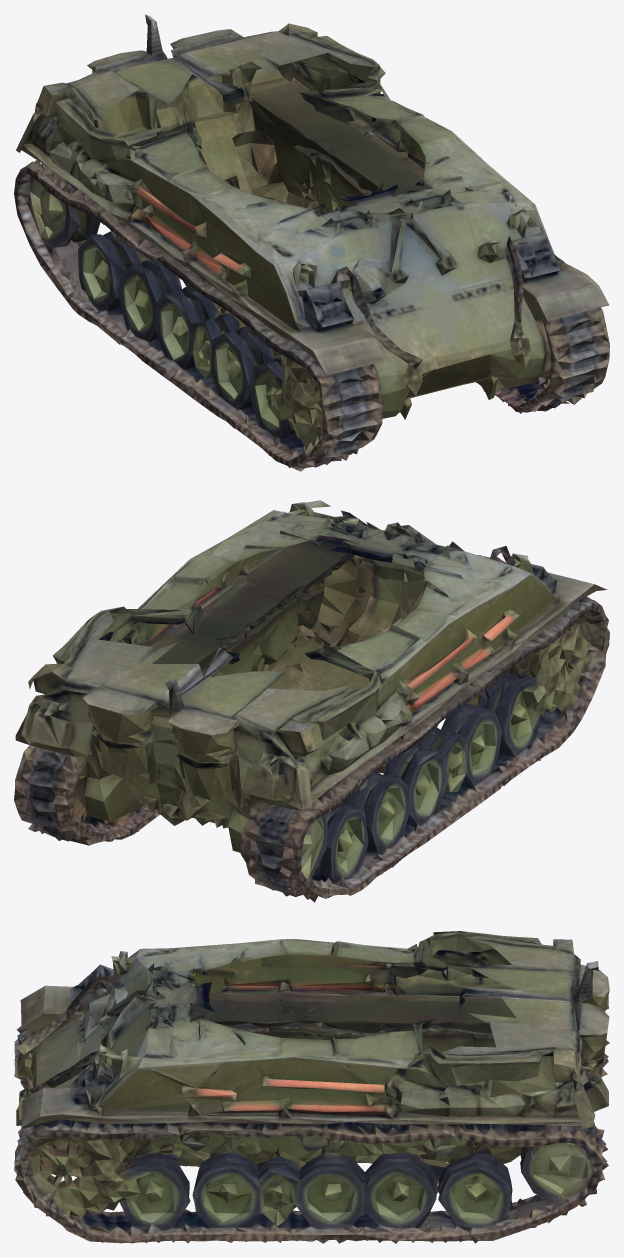
File: easy8_hull.obj
3 renders of one model, top to bottom at view 1: azimuth 30°, elevation 25°; view 2: azimuth 150°, elevation 25°; view 3: azimuth 270°, elevation 25°, orthographic. The views are drawn at different scales.
Parts seen in each view (by area): view 1: easy8_hull; view 2: easy8_hull; view 3: easy8_hull.
Boxes of the visible parts, x1=… form: easy8_hull: x1=14, y1=14, x2=609, y2=471; easy8_hull: x1=14, y1=500, x2=609, y2=902; easy8_hull: x1=14, y1=931, x2=609, y2=1243.
Bounding box in the file's own units: 3.48 × 2.54 × 6.3.
1 material, 1 textured.
